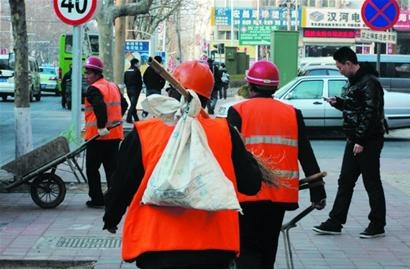none: (332, 44, 360, 78), (129, 56, 139, 69)
red: (244, 57, 282, 101), (82, 54, 103, 85)
yellow: (168, 60, 215, 111)
